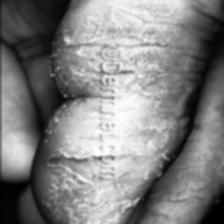Non-Cancerous Skin Condition: (38, 0, 180, 224)
